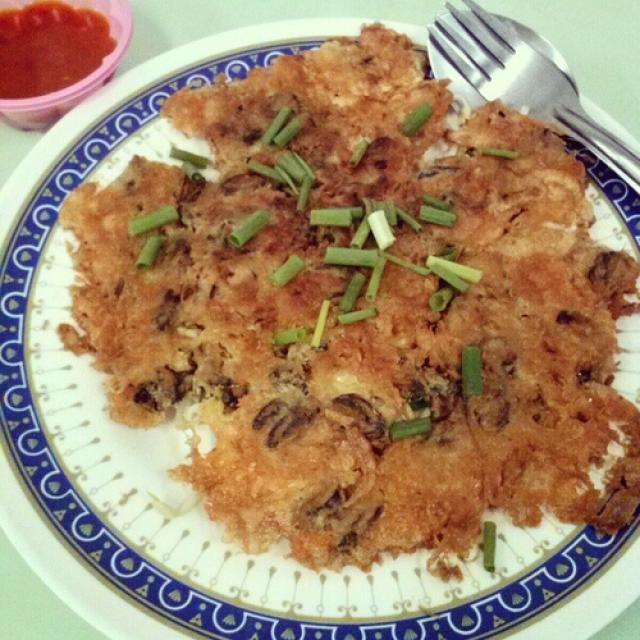炸货点心: (36, 34, 626, 596)
蛋糕甜品: (36, 34, 626, 596)
